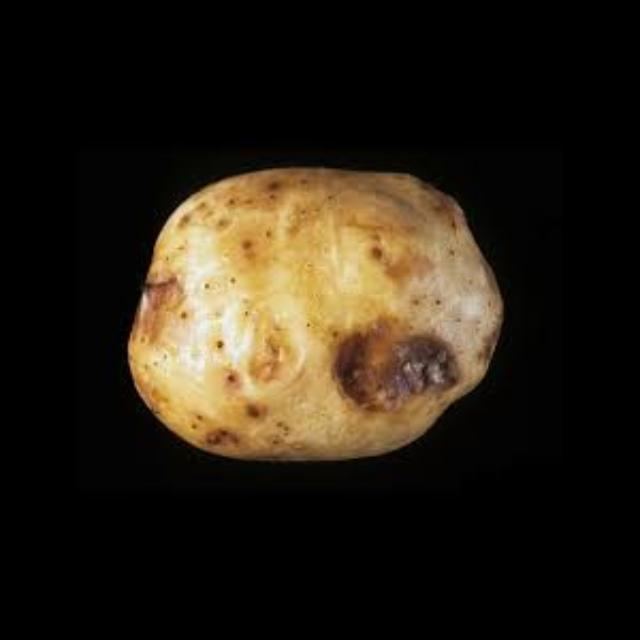Damaged potato: (128, 147, 512, 466)
